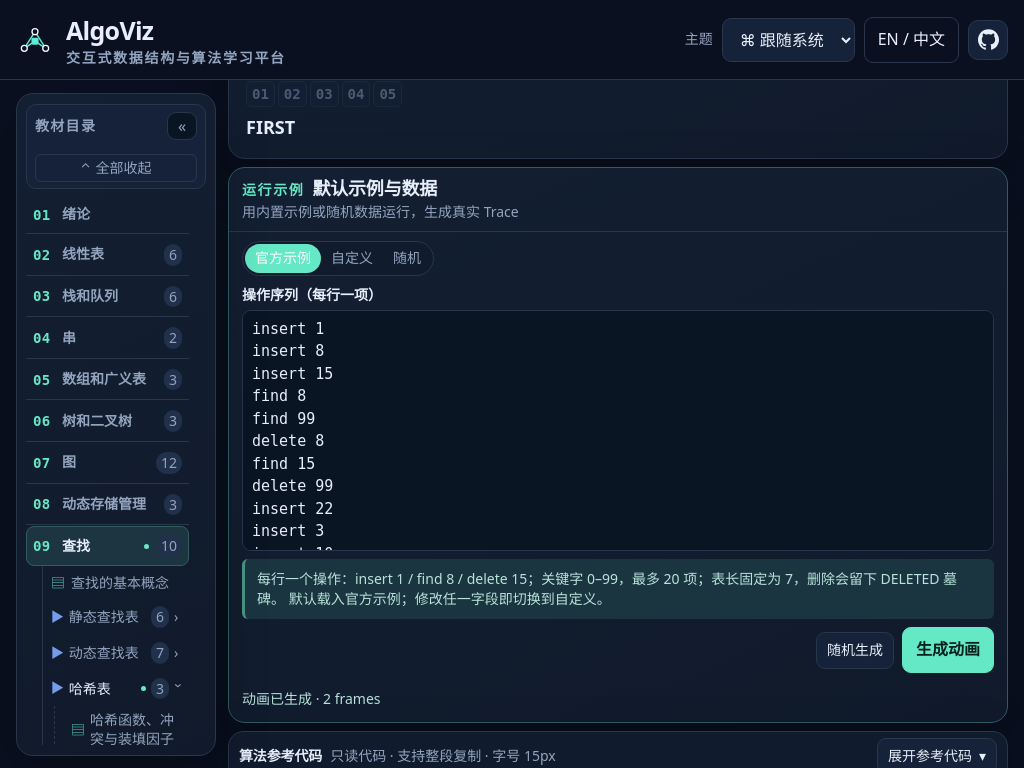
Test: INPUT-03 — linear search and hash operation inputs › rejects an out-of-range hash key, clears the old trace and never executes it
The width and height of the screenshot is (1024, 768).
Earlier steps of the test are not shown.
(page scrolled)
Expected: the element with test id "guided-input" has attribute data-algorithm="hash-probe", [242, 241, 994, 710]
Replace the text in the text box with test id "hash-operations" with "insert 100": {"x": 618, "y": 430} [242, 310, 994, 551]
(page scrolled)
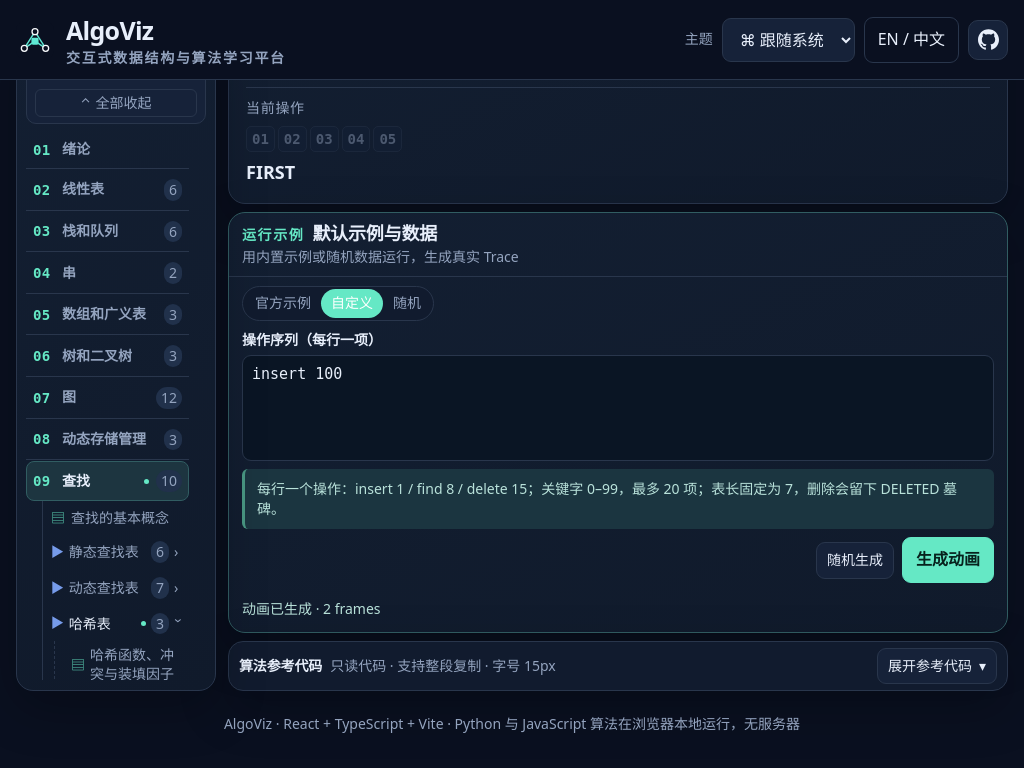
Click the button with test id "run-btn": {"x": 948, "y": 560} [902, 537, 994, 583]
(page scrolled)
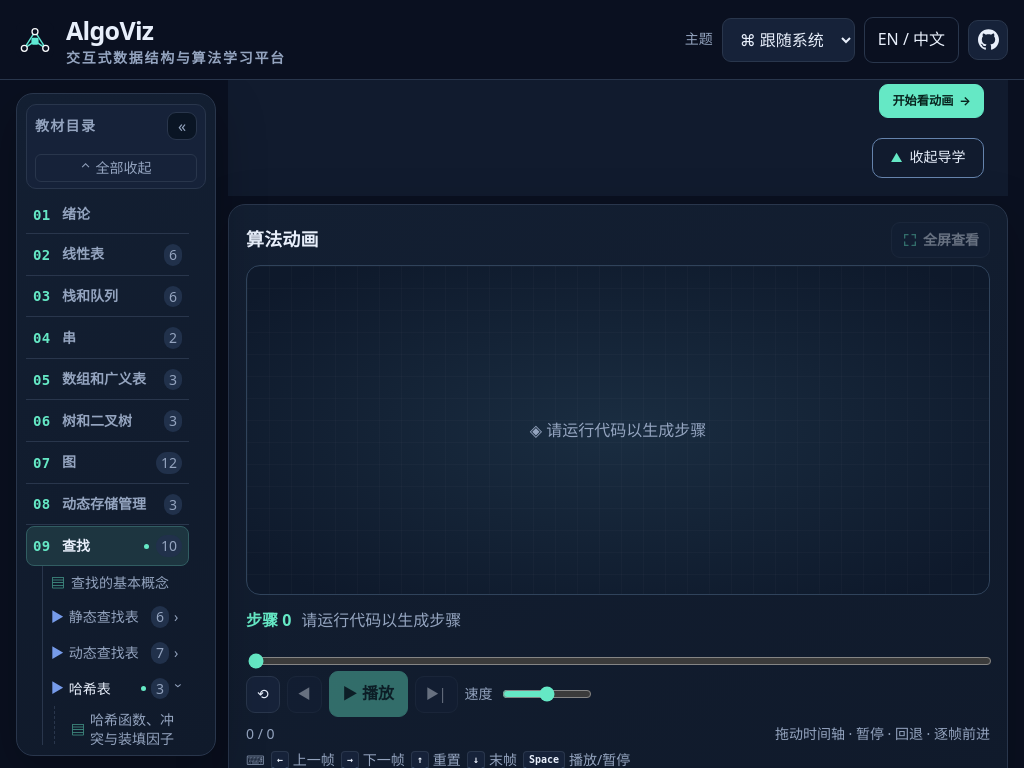
Expected: the text with test id "progress" reads "0 / 0", [246, 724, 274, 743]
Expected: the text "◈ 请运行代码以生成步骤" is shown, [530, 418, 706, 440]
